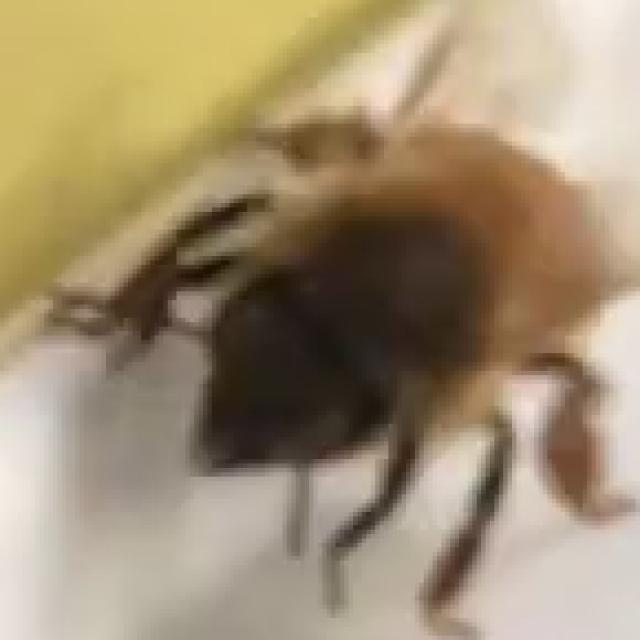honeybee: (76, 101, 600, 625)
